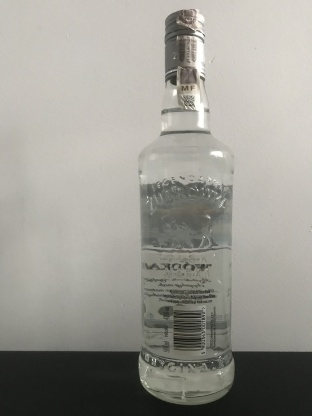nakretka: (162, 6, 207, 83)
